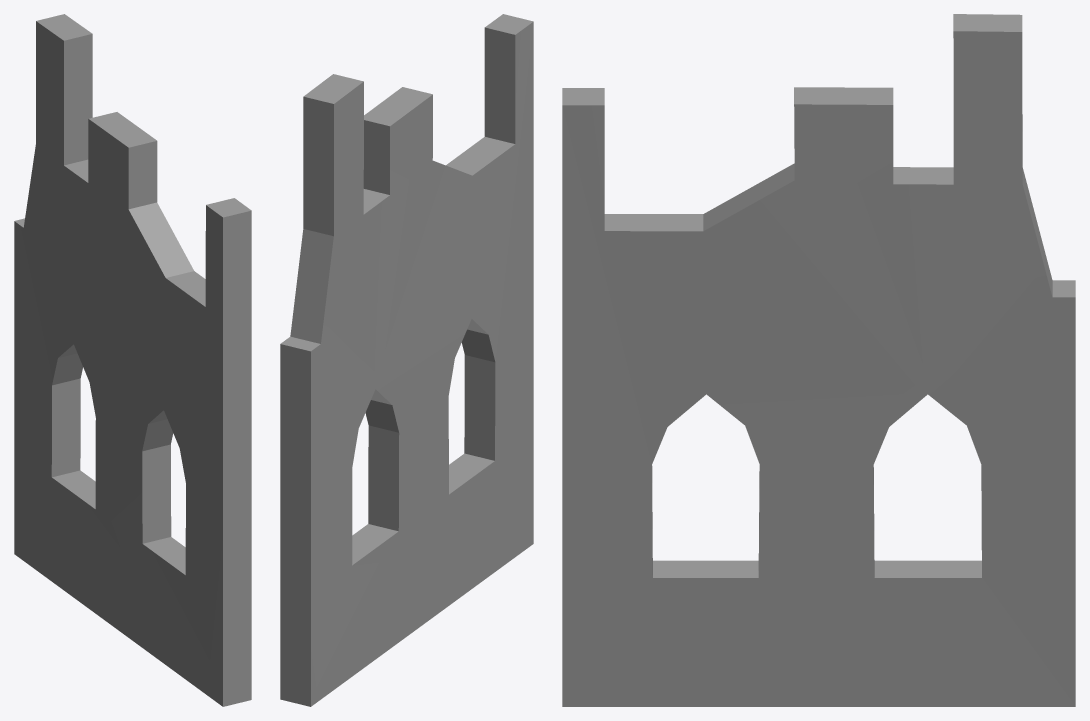
Rendered from wall_2.fbx.
3 views of the same model, side by side, from view 1: azimuth 30°, elevation 25°; view 2: azimuth 150°, elevation 25°; view 3: azimuth 270°, elevation 25° (orthographic). The views are drawn at different scales.
Visible parts, largest first — view 1: Object.016; view 2: Object.016; view 3: Object.016.
Boxes of the visible parts, box(x1,y1,x2,y2) form: Object.016: box(14, 14, 251, 706); Object.016: box(280, 14, 533, 706); Object.016: box(562, 14, 1075, 706).
Size of the model in its own units: 61.21 by 1099 by 757.
